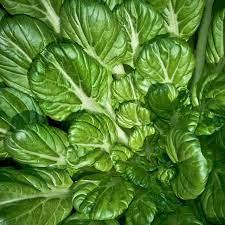Healthy-Pechay: (4, 3, 225, 225)
